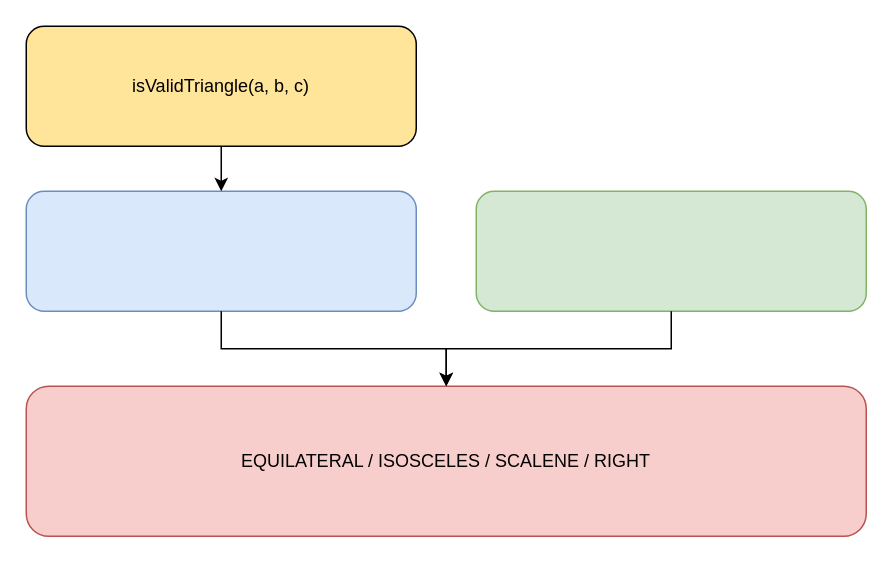
This 893x563 diagram has some shape labels left out. The box of each missing label's shape, as (x1, y1, x2, y2) in pixels:
classify(...): (25, 190, 416, 311)
isRightTriangle(...): (475, 190, 866, 311)
